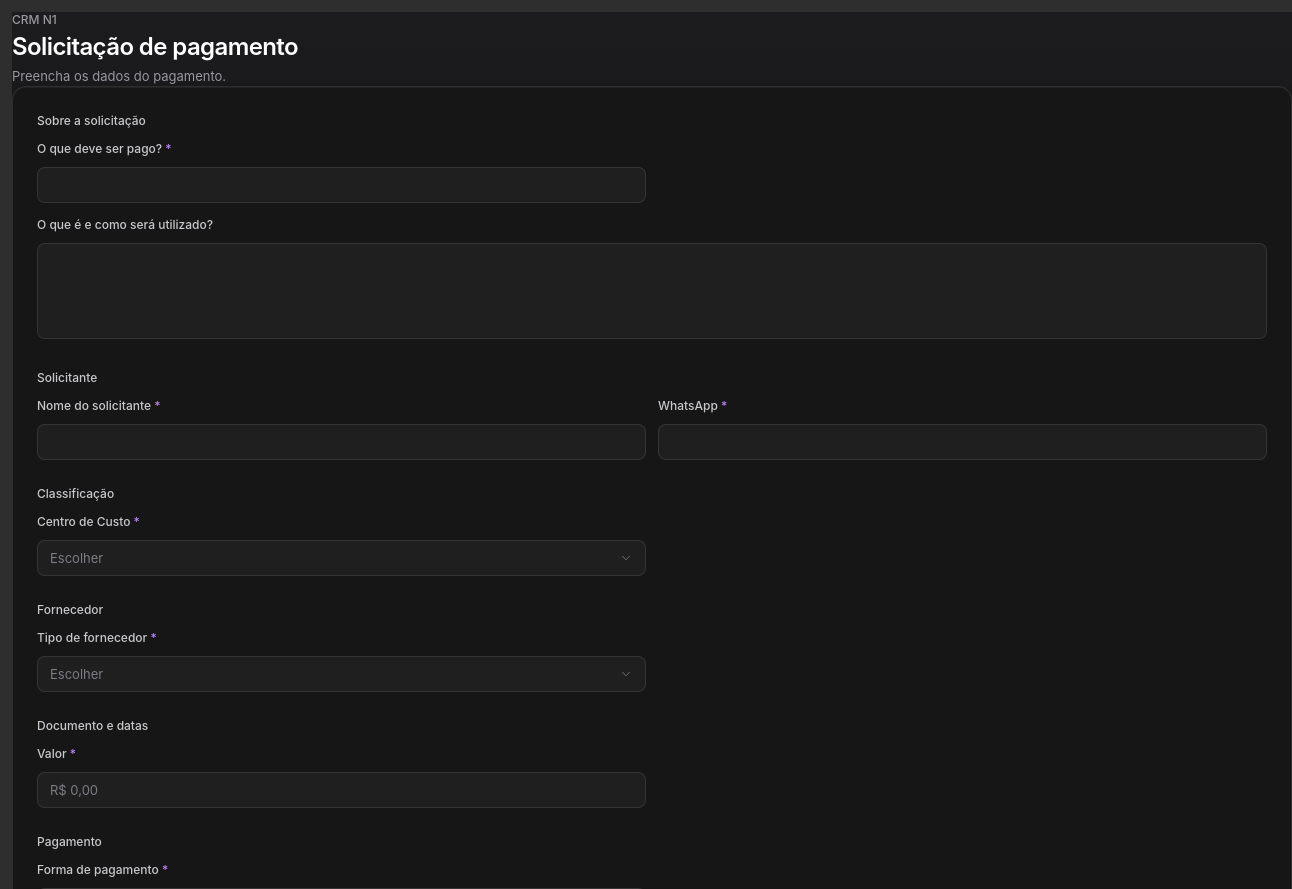
Test: FormularioPublico — o Formulário como dado (checklist 1.2–1.4) › (m) renomear as perguntas não quebra a condição nem a máscara: quem decide é o dado
Check: the field labelled "Documento da empresa" is not shown
Click the dropdown named "Tipo de fornecedor" at (77, 674), box x1=37 y1=656 x2=646 y2=692
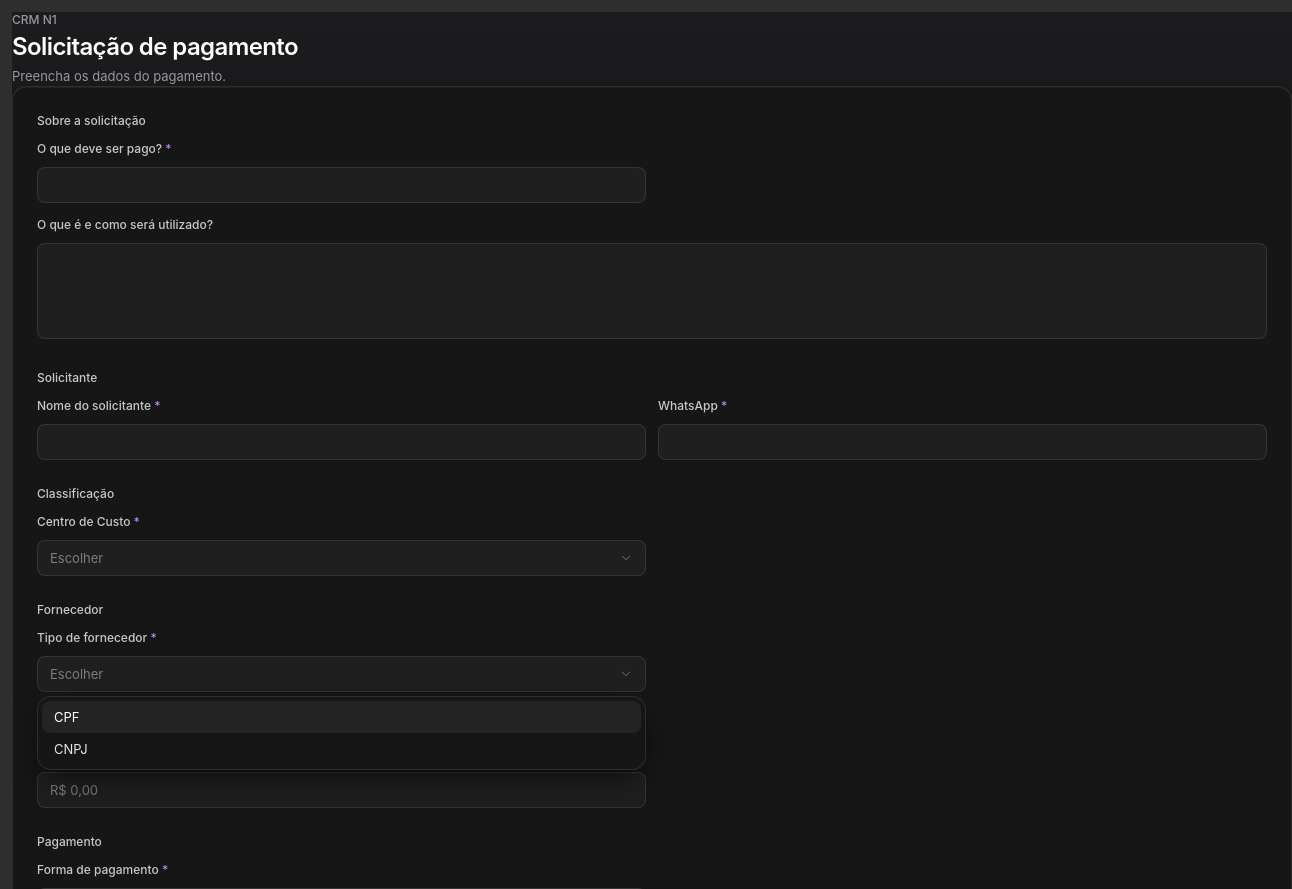
Click the option "CNPJ" at (71, 749), box x1=42 y1=733 x2=641 y2=765
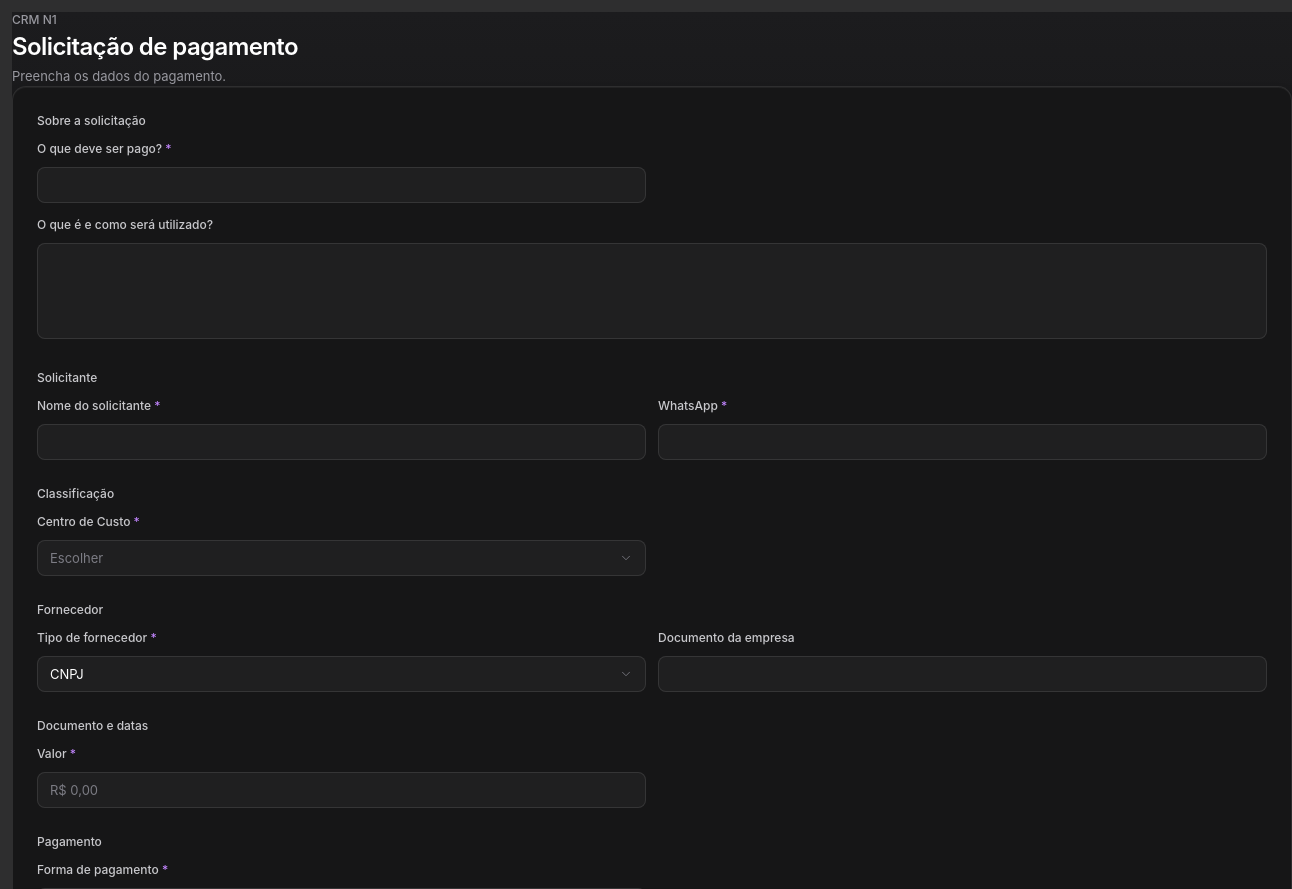
Type "11222333000181" into the field labelled "Documento da empresa" at (962, 674), box x1=658 y1=656 x2=1267 y2=692
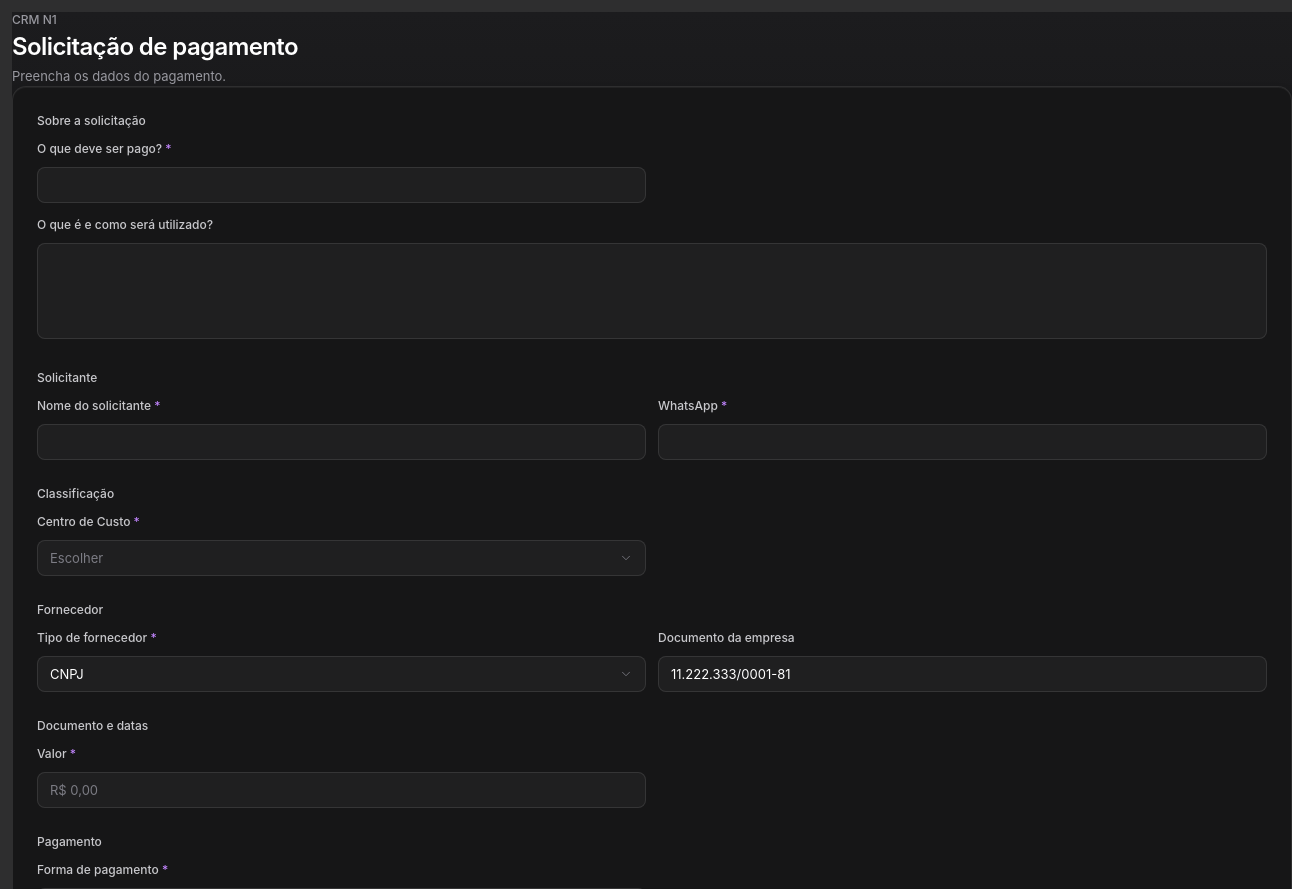
Check: the field labelled "Documento da empresa" holds "11.222.333/0001-81", box x1=658 y1=656 x2=1267 y2=692
